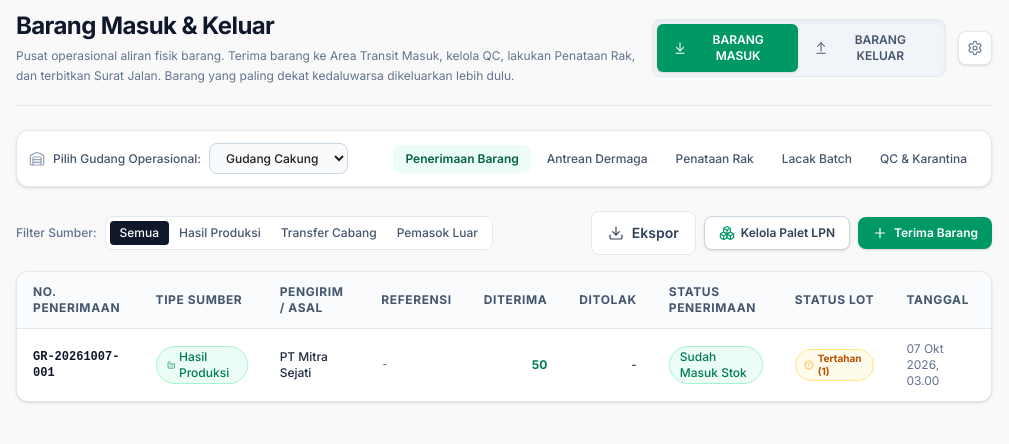
Test: Unified Arus Barang Page (KO-2a & Sprint 1) › switches to Putaway tab and displays pending lines in staging
Click the button "Penataan Rak".
click(715, 158)  # box [664,144,766,172]
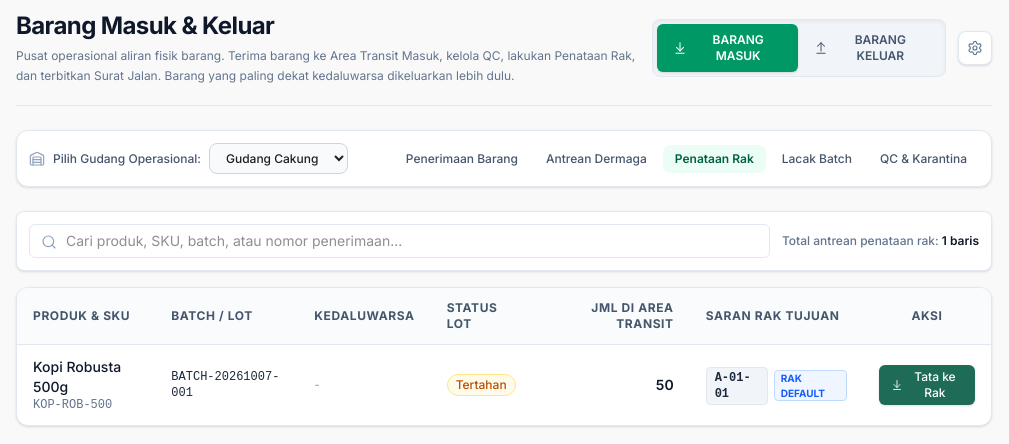
Expected: the text "Kopi Robusta 500g" is shown, [33,358,121,395]
Expected: the text "BATCH-20261007-001" is shown, [155,344,298,425]
Expected: the text "A-01-01" is shown, [706,366,768,404]
